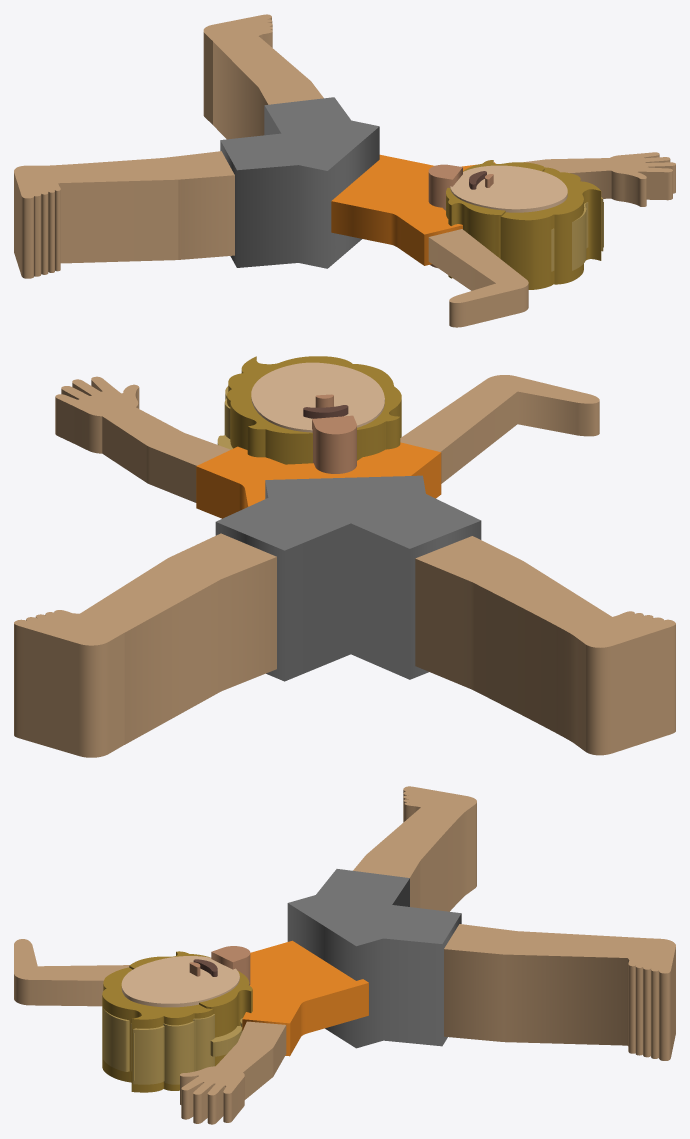
Rendered from emoji_u1f938_1f3fc.glb.
The picture shows the model from 3 angles, top to bottom: view 1: azimuth 30°, elevation 25°; view 2: azimuth 150°, elevation 25°; view 3: azimuth 270°, elevation 25°; orthographic projection. The views are drawn at different scales.
Parts seen in each view (by area): view 1: emoji_u1f938_1f3fc; view 2: emoji_u1f938_1f3fc; view 3: emoji_u1f938_1f3fc.
Boxes of the visible parts, x1=… form: emoji_u1f938_1f3fc: x1=14, y1=14, x2=675, y2=327; emoji_u1f938_1f3fc: x1=14, y1=356, x2=675, y2=757; emoji_u1f938_1f3fc: x1=14, y1=786, x2=675, y2=1124.
Bounding box in the file's own units: 0.0331 × 0.0056 × 0.0329.
